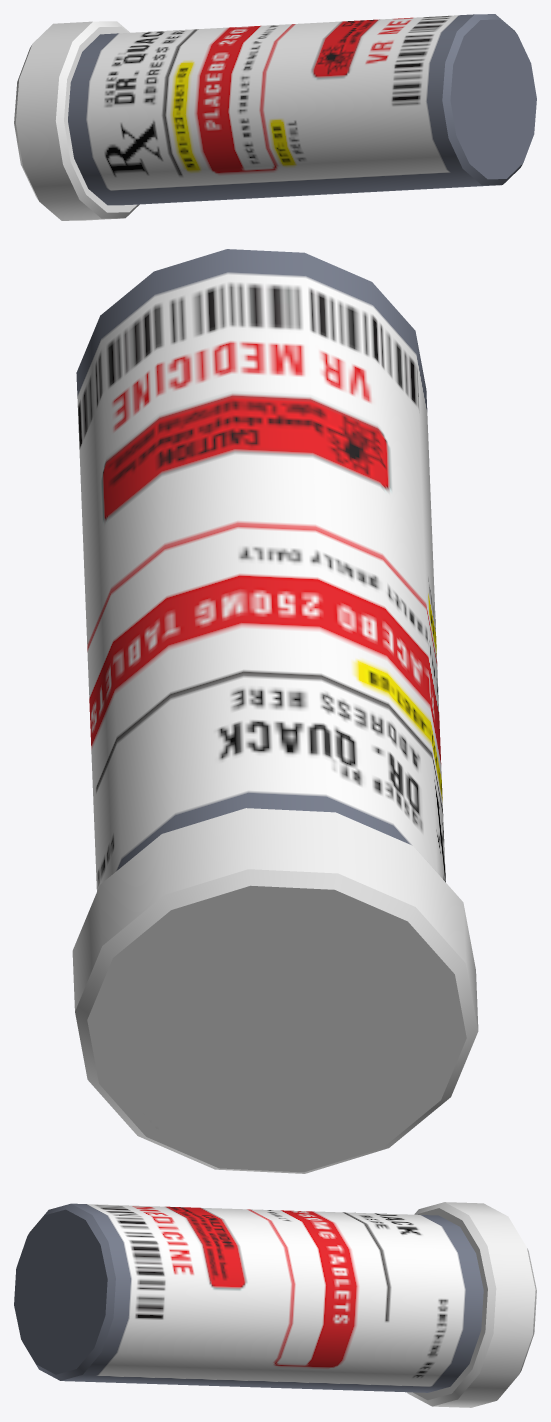
Rendered from Final_Item_Pill Bottle 6_ver1.fbx.
3 views of the same model, one above another, from view 1: azimuth 30°, elevation 25°; view 2: azimuth 150°, elevation 25°; view 3: azimuth 270°, elevation 25° (orthographic). The views are drawn at different scales.
Parts seen in each view (by area): view 1: Pill Bottle V6; view 2: Pill Bottle V6; view 3: Pill Bottle V6.
Boxes of the visible parts, box(x1,y1,x2,y2) form: Pill Bottle V6: box(14, 14, 536, 220); Pill Bottle V6: box(72, 249, 478, 1173); Pill Bottle V6: box(14, 1202, 536, 1407).
Size of the model in its own units: 140 by 106 by 176.
Materials: 1 (1 with a texture image).
